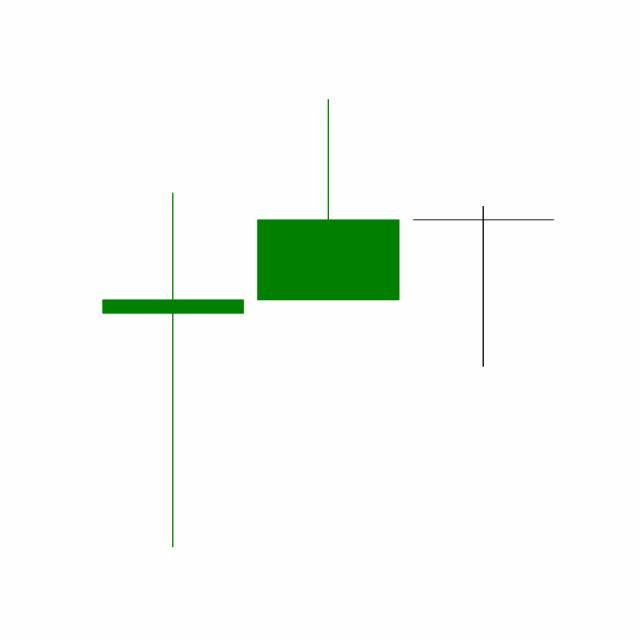Dragonfly Doji: (406, 205, 562, 369)
